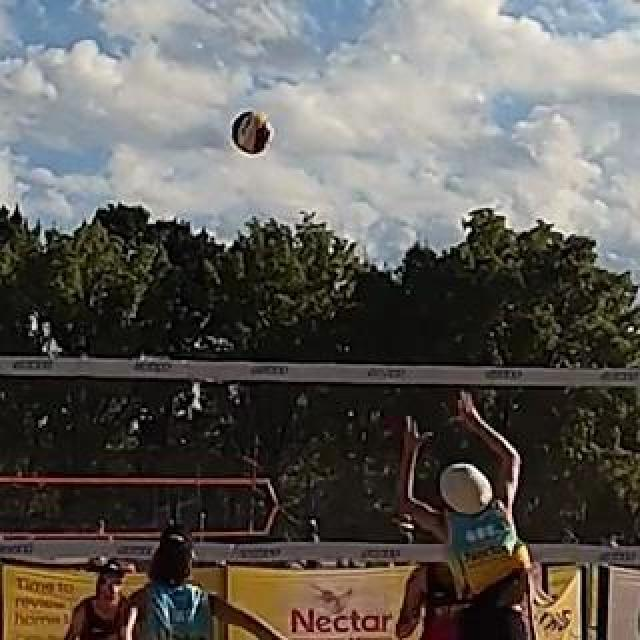volleyball: (230, 109, 274, 155)
